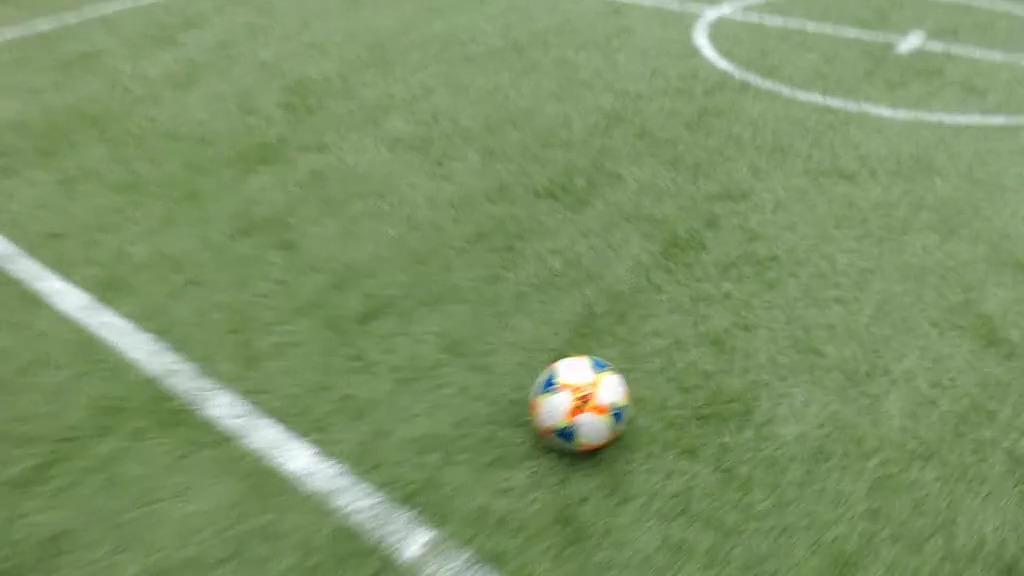ball: (515, 332, 643, 461)
